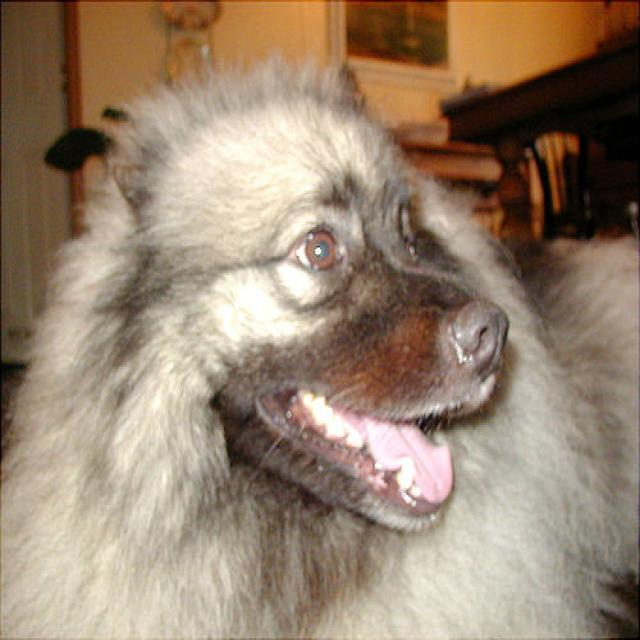dog-keeshond: (1, 73, 637, 637)
